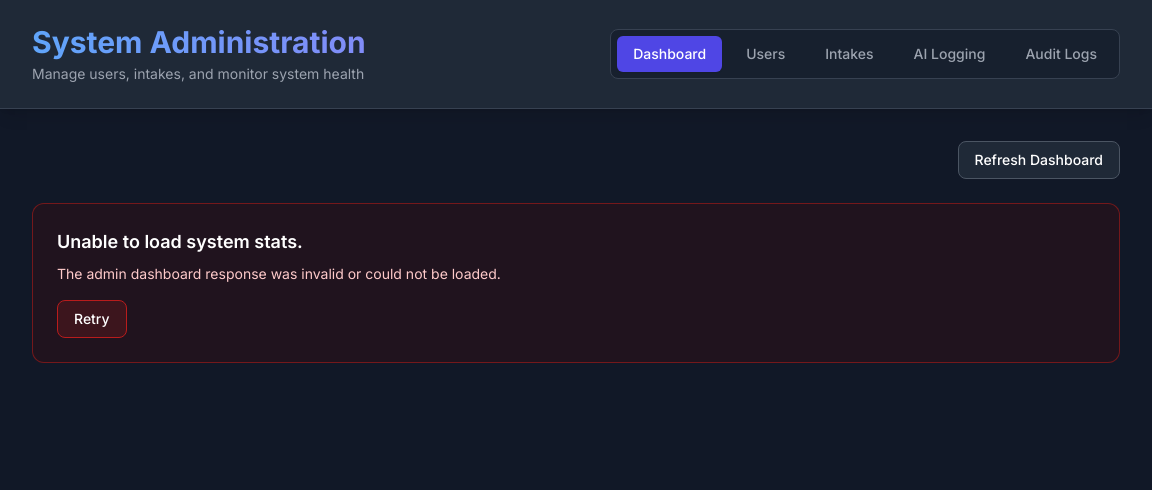
Scenario: AdminPanel › shows an inline dashboard retry state when stats fail and recovers on retry
Expected: the element with id "admin-dashboard-error" shows "Unable to load system stats.", [57, 231, 303, 252]
Click the button with id "admin-dashboard-refresh" at point(1039, 160), box [958, 141, 1120, 179]
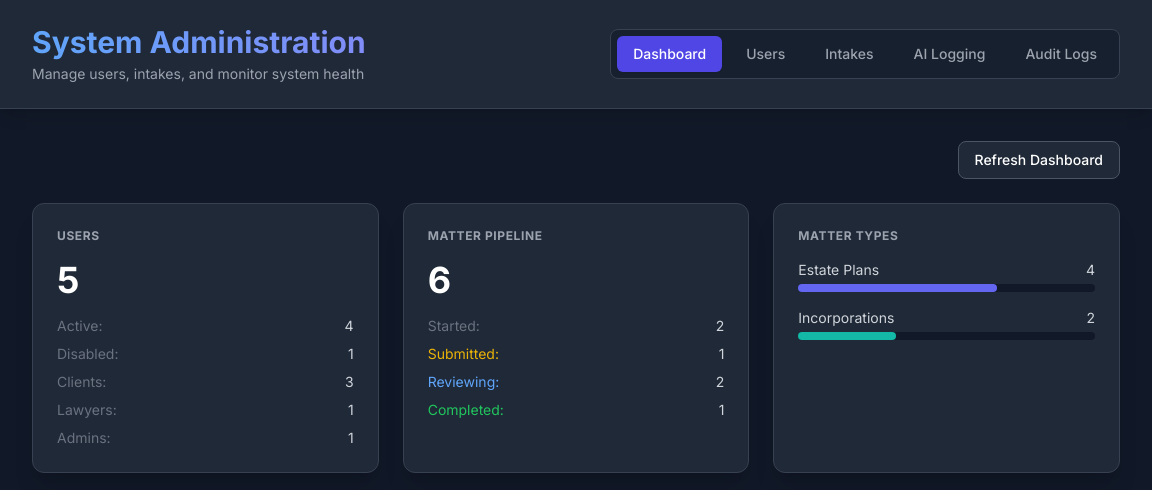
Expected: the text "Matter Pipeline" is shown, [428, 228, 543, 243]
Expected: the text "Started:" is shown, [428, 316, 480, 336]
